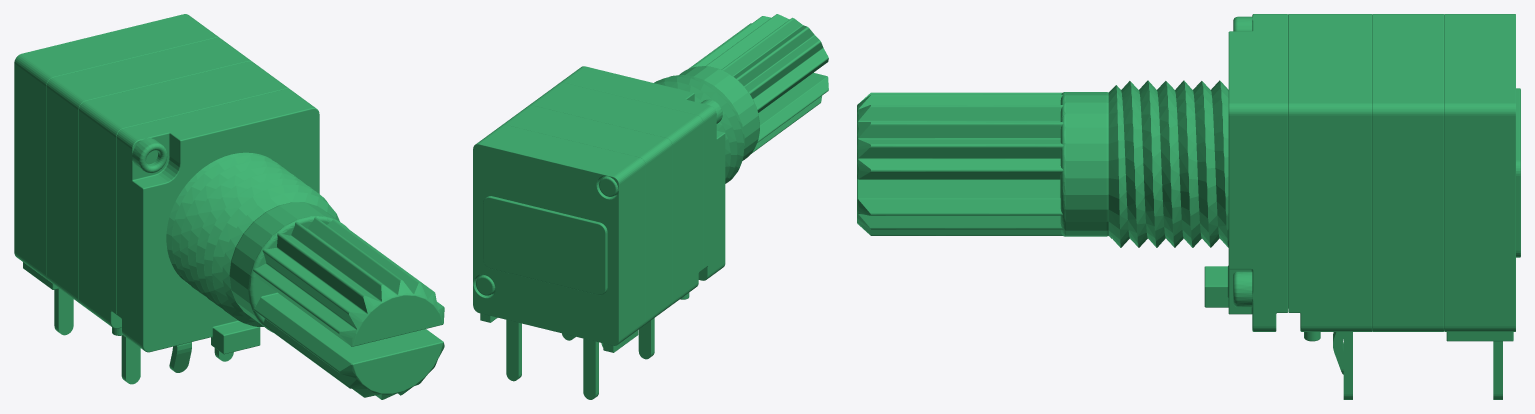
3 views of the same model, side by side, from view 1: azimuth 30°, elevation 25°; view 2: azimuth 150°, elevation 25°; view 3: azimuth 270°, elevation 25° (orthographic). The views are drawn at different scales.
Parts seen in each view (by area): view 1: =>[0:1:1:2]; view 2: =>[0:1:1:2]; view 3: =>[0:1:1:2].
Part boxes in pixels (x1,y1,x2,y2): =>[0:1:1:2]: (14, 14, 444, 399); =>[0:1:1:2]: (473, 14, 828, 399); =>[0:1:1:2]: (857, 14, 1520, 399).
Bounding box in the file's own units: 0.0095 × 0.0145 × 0.0277.
